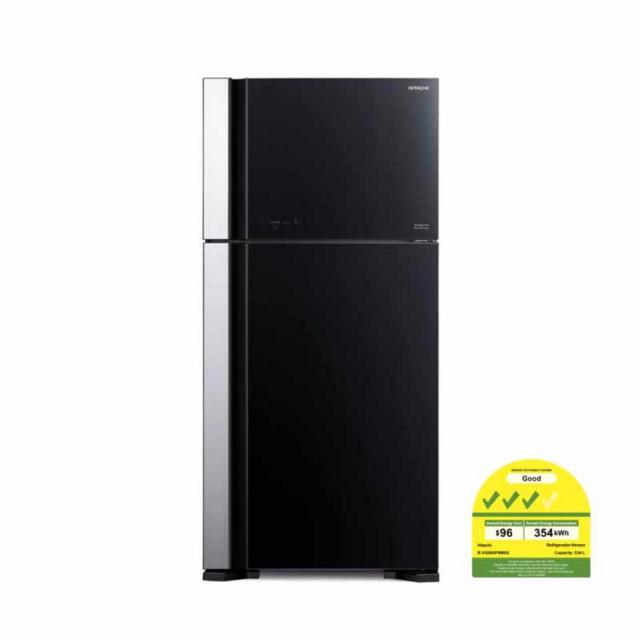refrigerator: (199, 73, 441, 583)
